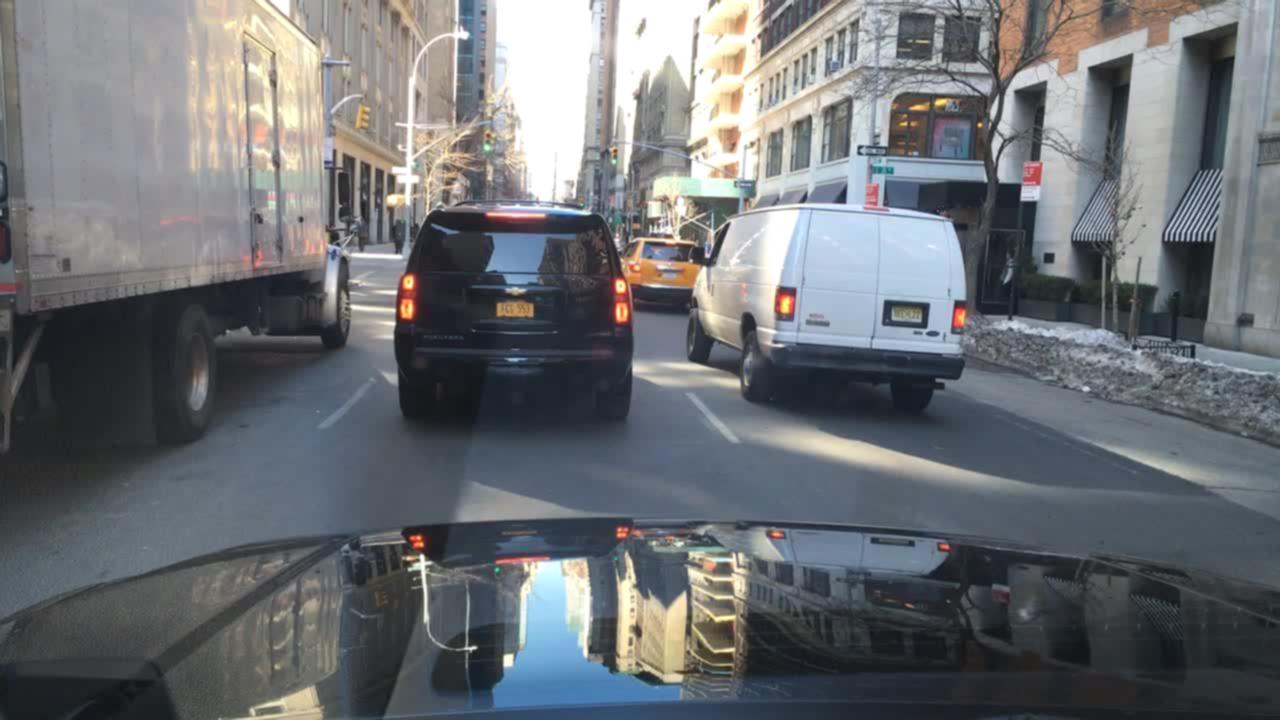chevrolet: (494, 277, 542, 298)
